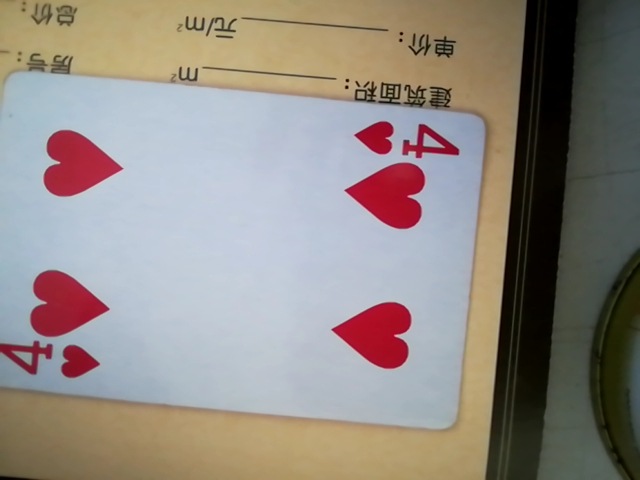hx 4: (0, 72, 502, 430)
